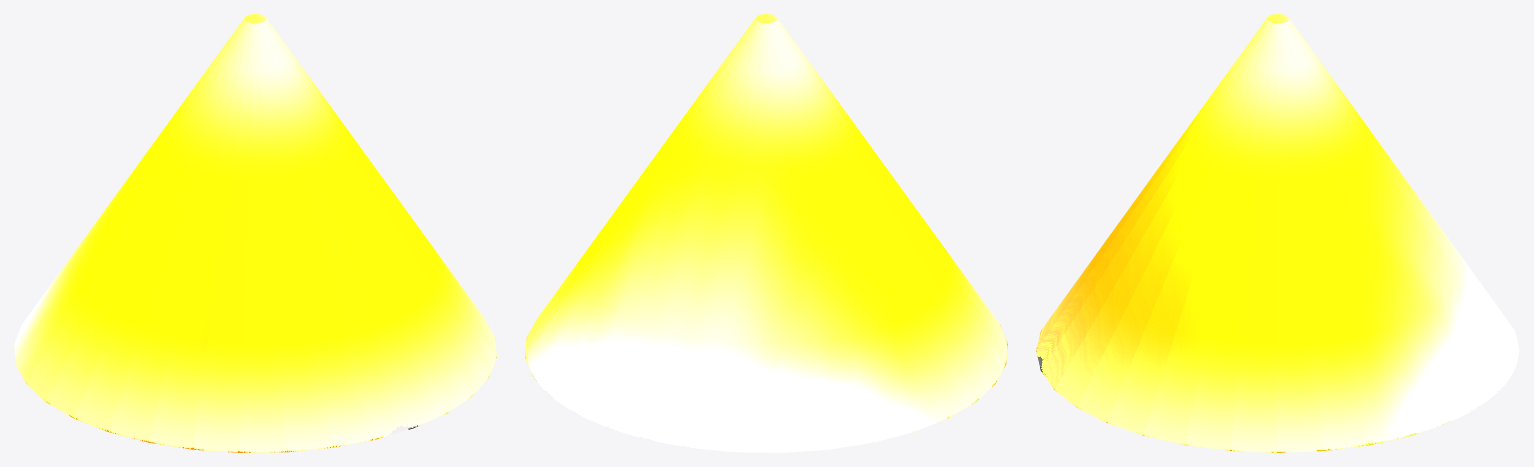
The model's file is muzzle flash.glb.
3 renders of one model, left to right at view 1: azimuth 30°, elevation 25°; view 2: azimuth 150°, elevation 25°; view 3: azimuth 270°, elevation 25°, orthographic.
Parts seen in each view (by area): view 1: Cone; view 2: Cone; view 3: Cone.
Part boxes in pixels (box(x1,y1,x2,y2)): Cone: box(14, 14, 496, 452); Cone: box(525, 14, 1007, 452); Cone: box(1036, 14, 1519, 452).
Bounding box in the file's own units: 2 × 1.52 × 2.
Materials: 1 (1 with a texture image).
